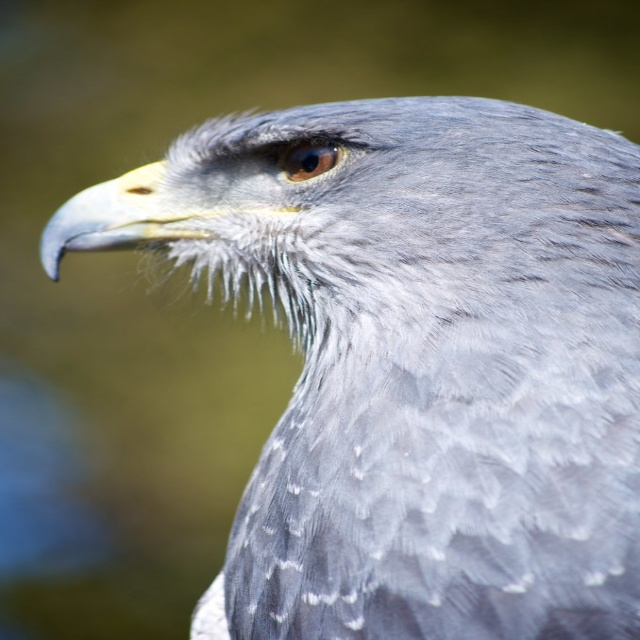Eagle: (35, 92, 639, 640)
